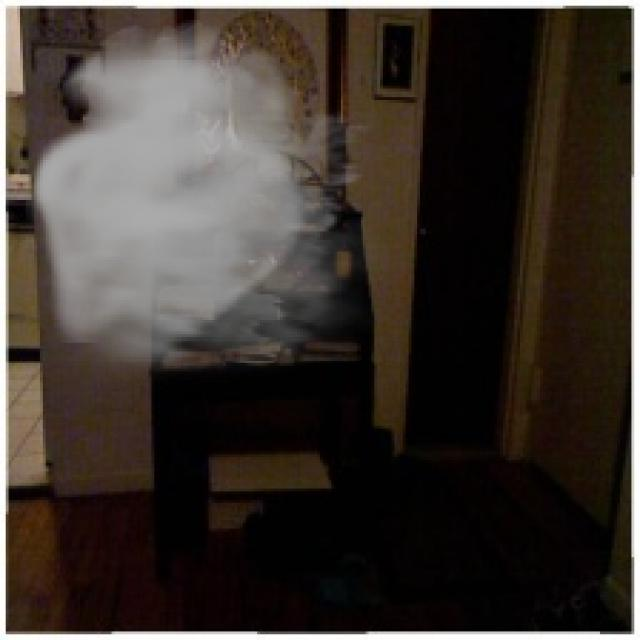smoke: (26, 20, 406, 391)
